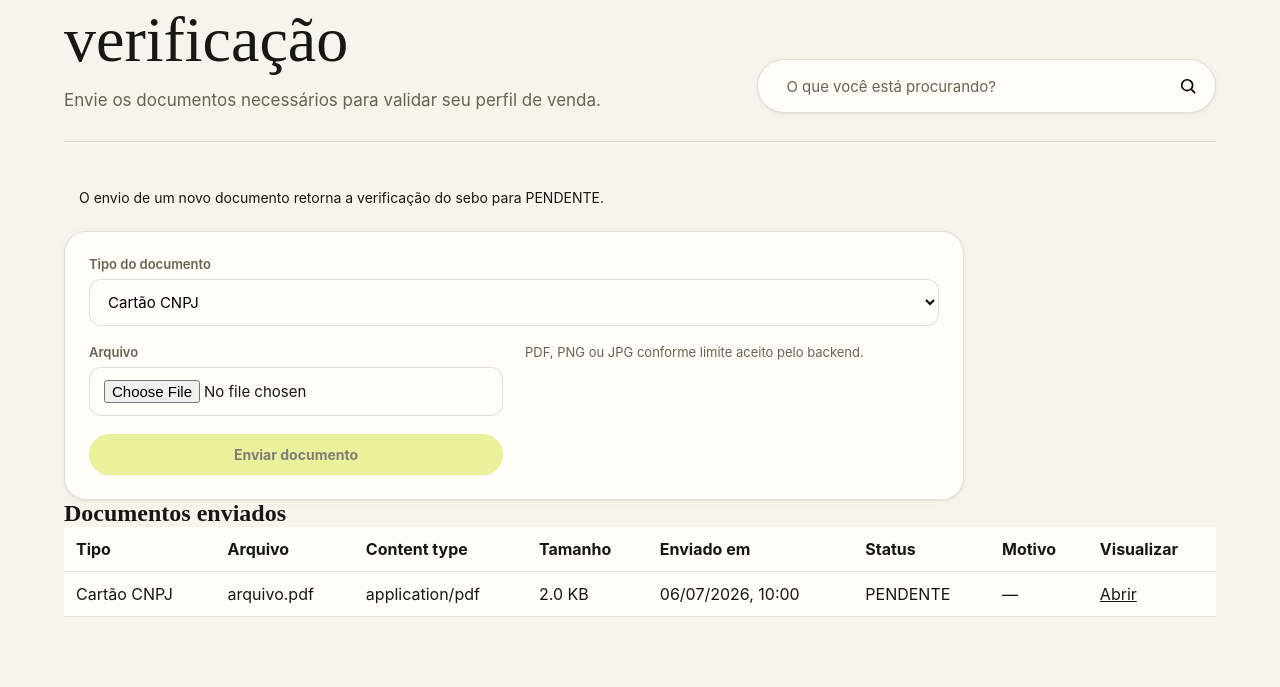
Scenario: abertura autenticada de documentos de verificacao › mostra uma mensagem de erro na tela quando o documento nao pode ser aberto
(page scrolled)
Click the button "Abrir" at (1118, 594), box x1=1100 y1=584 x2=1137 y2=604
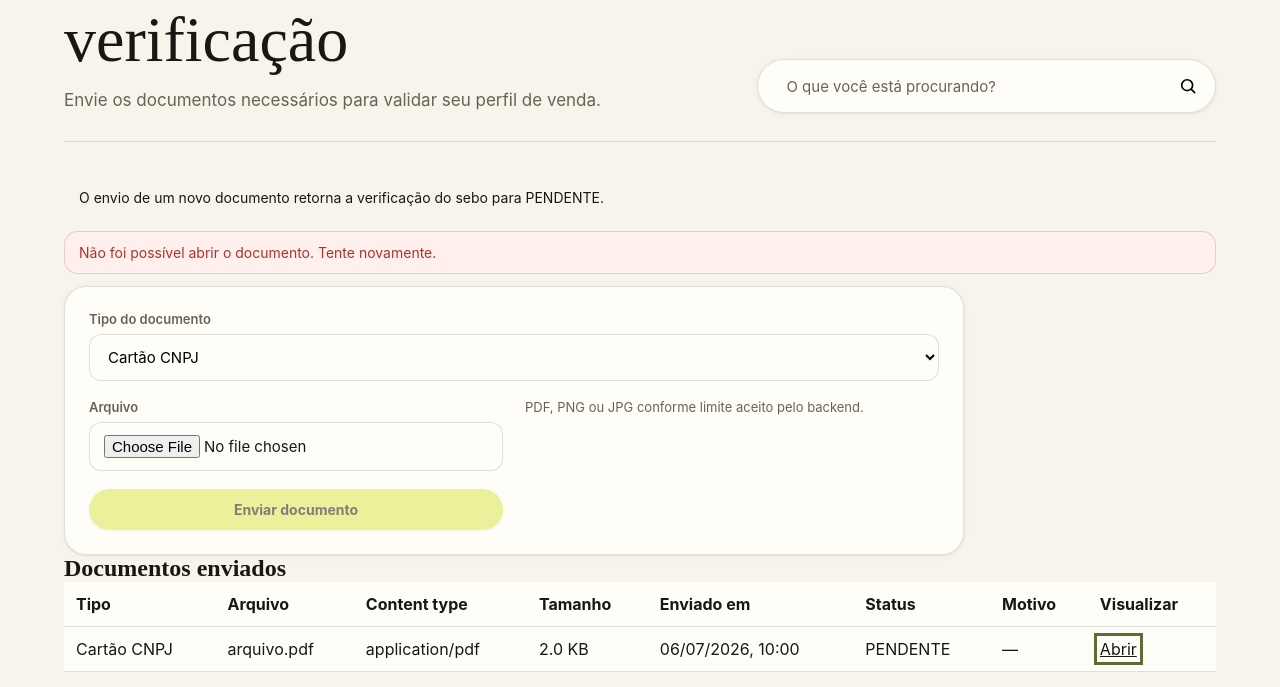
Expected: the text "Não foi possível abrir o documento. Tente novamente." is shown, x1=64 y1=231 x2=1216 y2=274
